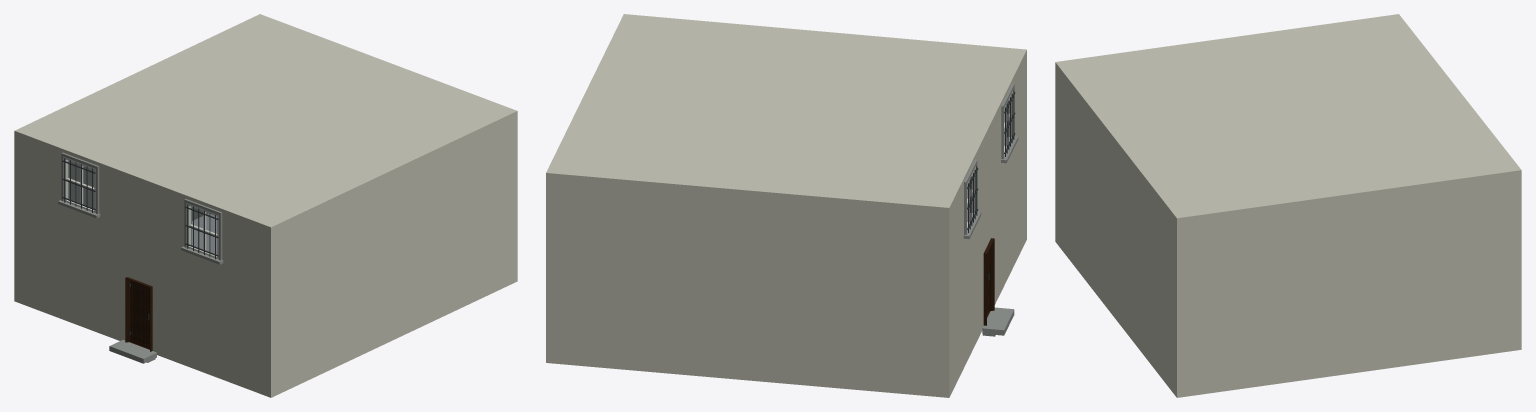
File: building.glb
The picture shows the model from 3 angles, left to right: view 1: azimuth 30°, elevation 25°; view 2: azimuth 150°, elevation 25°; view 3: azimuth 270°, elevation 25°; orthographic projection. The views are drawn at different scales.
Visible parts, largest first — view 1: building/runtime/wall, building/runtime/roof_slab, building/runtime/window_panel, building/runtime/door_board, building/runtime/window_frame, building/runtime/security_bar, building/runtime/opening_surround, building/runtime/entrance_step, building/runtime/door_moulding, building/runtime/window_sill; view 2: building/runtime/wall, building/runtime/roof_slab, building/runtime/security_bar, building/runtime/entrance_step, building/runtime/door_moulding, building/runtime/opening_surround; view 3: building/runtime/wall, building/runtime/roof_slab.
Part boxes in pixels (<box>): building/runtime/wall: <box>14,14,517,397</box>; building/runtime/roof_slab: <box>14,14,507,232</box>; building/runtime/window_panel: <box>68,161,217,254</box>; building/runtime/door_board: <box>132,282,149,346</box>; building/runtime/window_frame: <box>63,157,218,259</box>; building/runtime/security_bar: <box>64,158,215,259</box>; building/runtime/opening_surround: <box>61,152,222,260</box>; building/runtime/entrance_step: <box>109,340,156,363</box>; building/runtime/door_moulding: <box>125,277,152,351</box>; building/runtime/window_sill: <box>58,200,223,264</box>; building/runtime/wall: <box>546,14,1026,397</box>; building/runtime/roof_slab: <box>546,14,1026,213</box>; building/runtime/security_bar: <box>968,90,1014,232</box>; building/runtime/entrance_step: <box>982,307,1014,336</box>; building/runtime/door_moulding: <box>984,238,994,325</box>; building/runtime/opening_surround: <box>964,83,1014,234</box>; building/runtime/wall: <box>1055,14,1521,397</box>; building/runtime/roof_slab: <box>1055,14,1521,223</box>.
Size of the model in its own units: 13.66 by 5.76 by 13.18.
6 materials, 1 textured.
